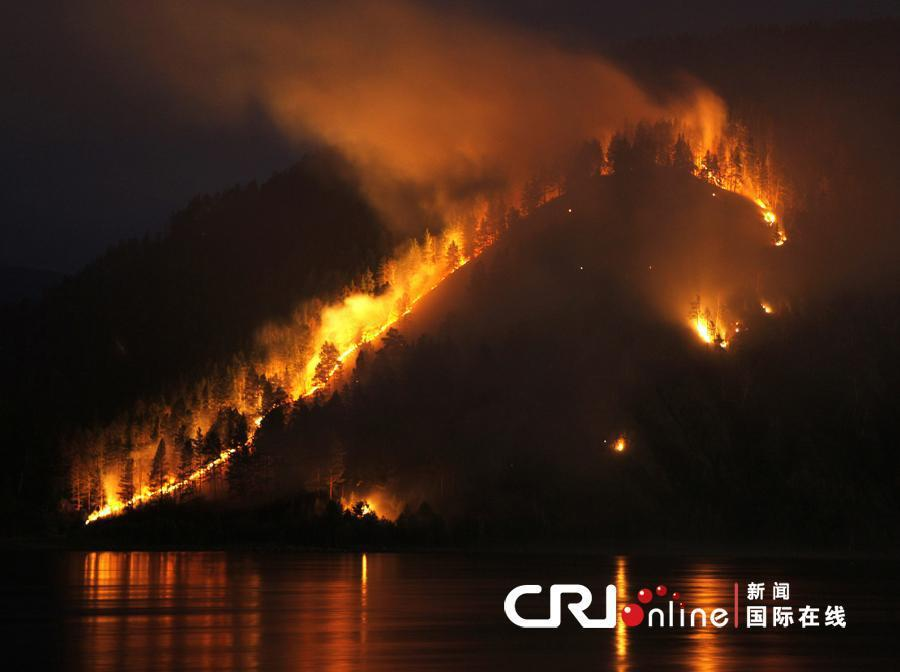fire: (272, 127, 664, 404), (67, 350, 284, 527), (659, 114, 791, 248), (684, 309, 739, 353), (337, 489, 398, 526), (603, 432, 630, 455), (756, 295, 779, 318)
